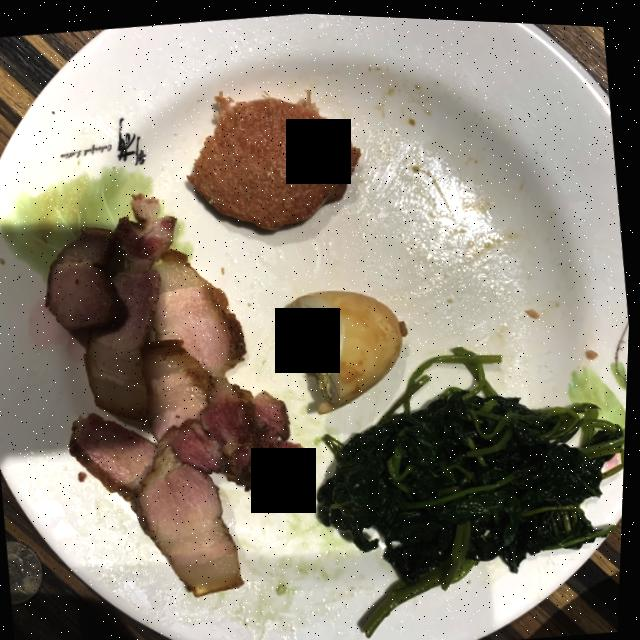Spam: (188, 94, 360, 227)
coin: (9, 540, 46, 604)
grilled pork: (47, 193, 303, 594)
soy egg: (292, 287, 408, 410)
sweet potato leaves: (320, 342, 628, 633)
